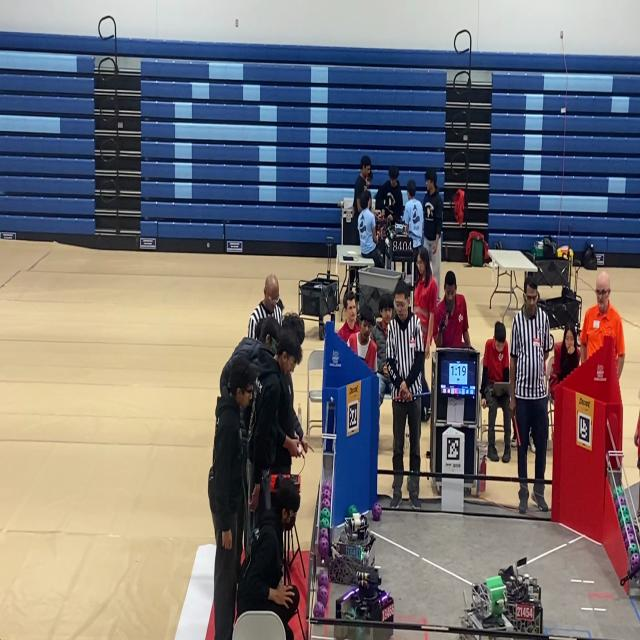artifact_green: (618, 505, 630, 520), (622, 528, 630, 549), (620, 514, 631, 527), (628, 543, 638, 557), (319, 517, 330, 529), (348, 505, 358, 517), (356, 627, 366, 639), (319, 528, 328, 539), (615, 486, 624, 496), (320, 508, 330, 517), (617, 508, 622, 521)
artifact_purple: (623, 524, 636, 542), (318, 538, 329, 559), (313, 601, 325, 618), (318, 587, 328, 605), (630, 554, 639, 573), (372, 502, 381, 521), (318, 572, 329, 587), (615, 496, 626, 511), (628, 543, 639, 557), (623, 535, 631, 549), (320, 508, 330, 519), (322, 481, 331, 493), (631, 533, 639, 546), (614, 486, 624, 496), (322, 490, 331, 501), (319, 528, 328, 539), (321, 498, 330, 508), (618, 496, 626, 506), (615, 498, 618, 511)
